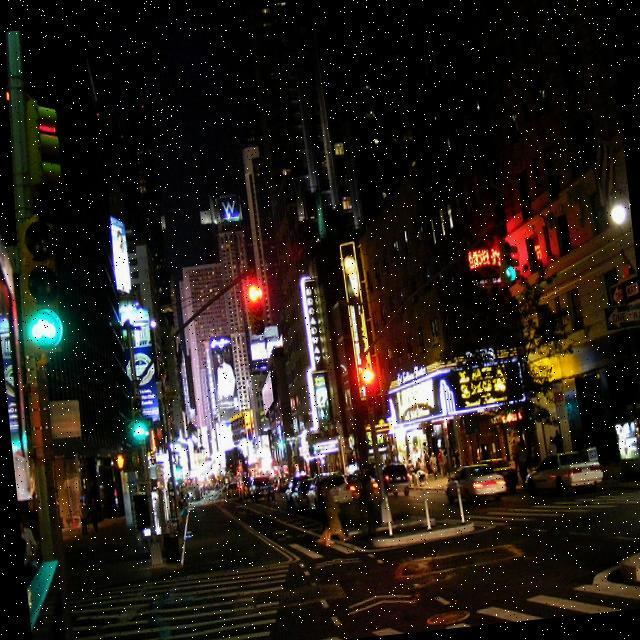fire_hydrant: (321, 490, 347, 544)
